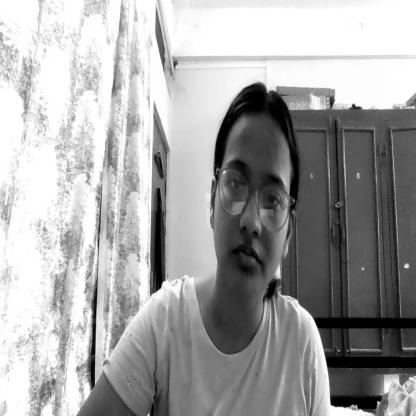Normal: (207, 80, 296, 314)
